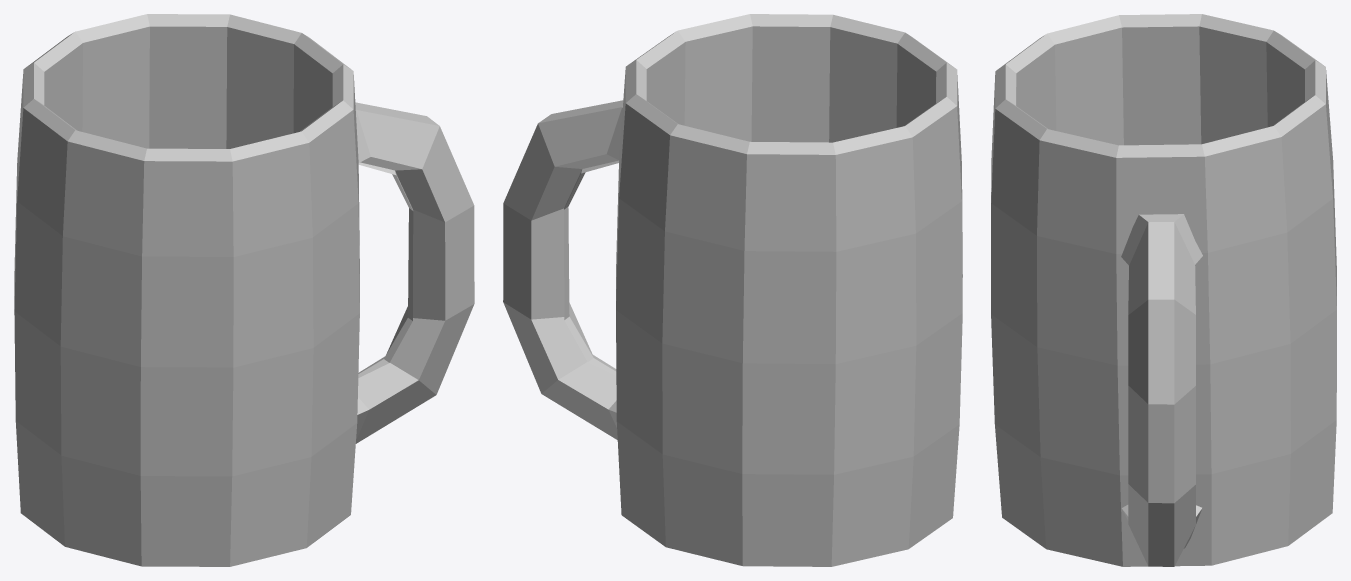
The model's file is MugV1.fbx.
3 renders of one model, left to right at view 1: azimuth 30°, elevation 25°; view 2: azimuth 150°, elevation 25°; view 3: azimuth 270°, elevation 25°, orthographic.
Visible parts, largest first — view 1: MugV1; view 2: MugV1; view 3: MugV1.
Boxes of the visible parts, left/top/right/bottom form: MugV1: left=14, top=14, right=474, bottom=566; MugV1: left=503, top=14, right=962, bottom=566; MugV1: left=991, top=14, right=1336, bottom=566.
Bounding box in the file's own units: 7.38 × 6.91 × 5.14.
